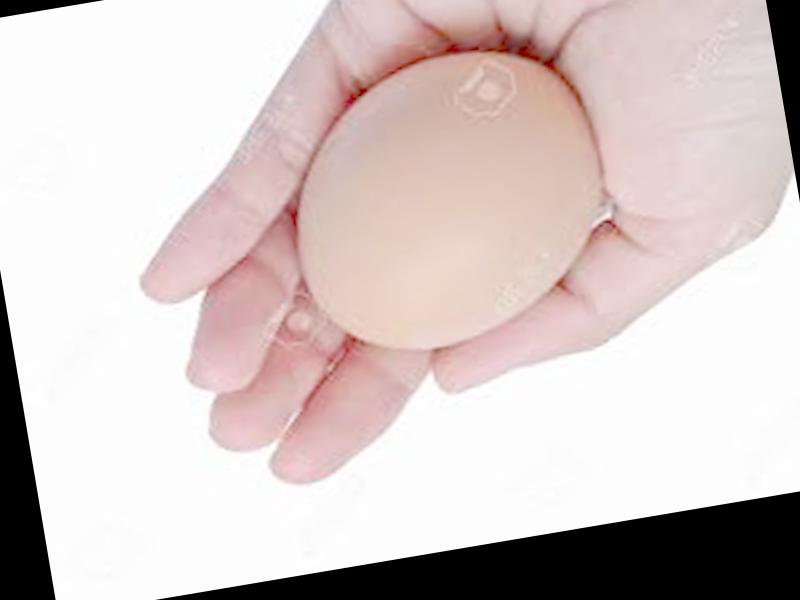Eggs: (270, 36, 627, 367)
